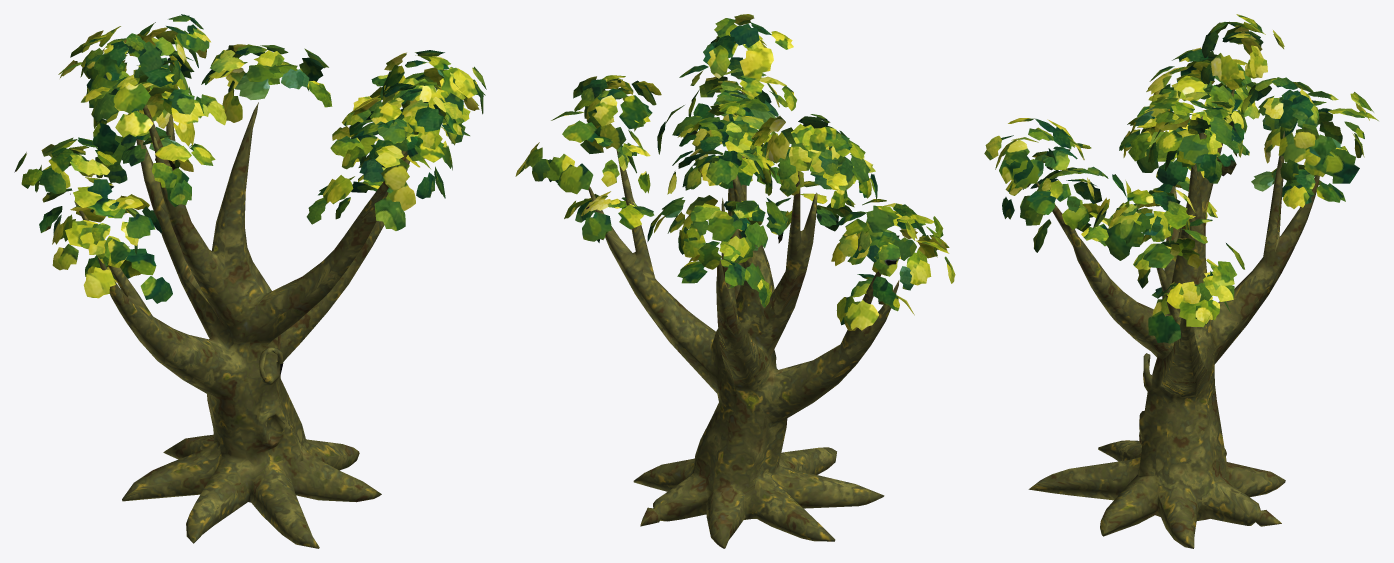
Rendered from elder_oak_lod2.glb.
3 views of the same model, side by side, from view 1: azimuth 30°, elevation 25°; view 2: azimuth 150°, elevation 25°; view 3: azimuth 270°, elevation 25° (orthographic). The views are drawn at different scales.
Parts seen in each view (by area): view 1: Trunk_LOD2, Leaves_LOD2; view 2: Leaves_LOD2, Trunk_LOD2; view 3: Leaves_LOD2, Trunk_LOD2.
Boxes of the visible parts, x1,y1,x2,y2 form: Trunk_LOD2: [70, 102, 409, 548]; Leaves_LOD2: [14, 14, 486, 303]; Leaves_LOD2: [515, 14, 955, 330]; Trunk_LOD2: [588, 87, 899, 548]; Leaves_LOD2: [984, 14, 1378, 343]; Trunk_LOD2: [1028, 89, 1319, 548].
Size of the model in its own units: 6.41 by 6.35 by 5.23.
2 materials, 2 textured.
